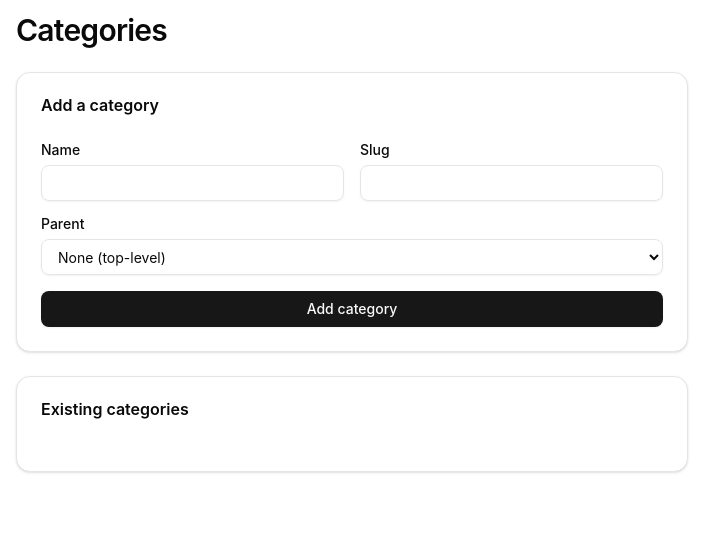
Test: AdminCategoriesPage › creates a new category
Expected: the text "Add a category" is shown, [41,95,159,115]
Type "Gadgets" into the field labelled "Name". click: x=192, y=183
box: [41,165,344,201]
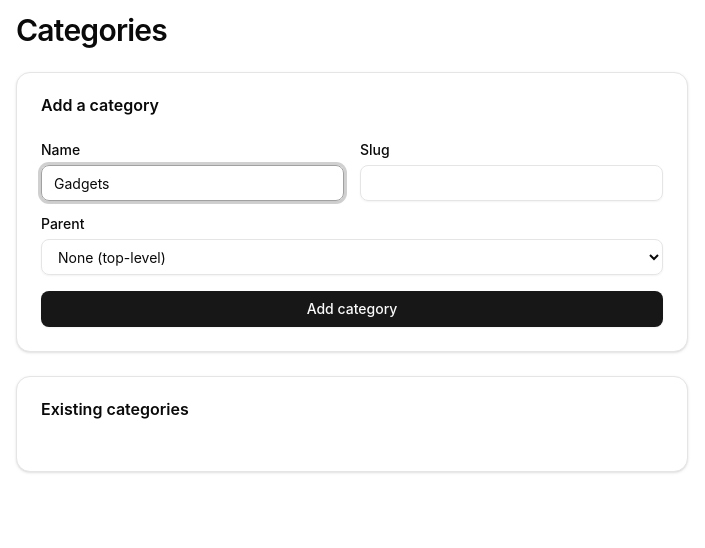
Type "gadgets" into the field labelled "Slug". click: x=512, y=183
box: [360,165,663,201]
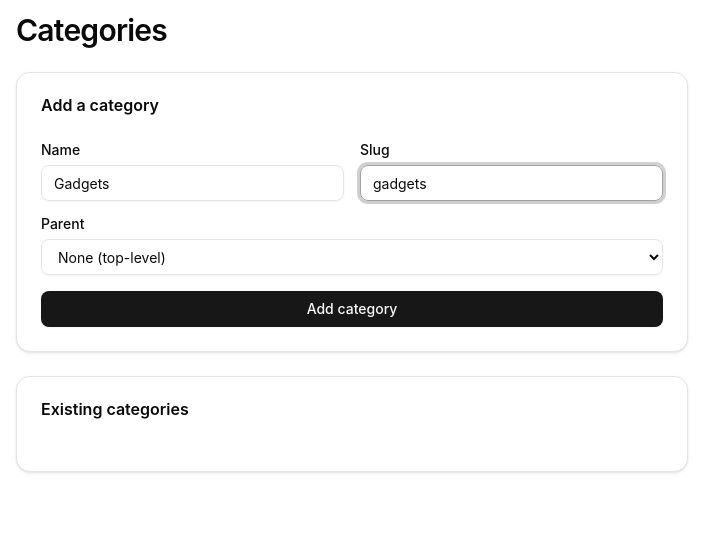
Click the button "Add category". click: x=352, y=309
box: [41,291,663,327]
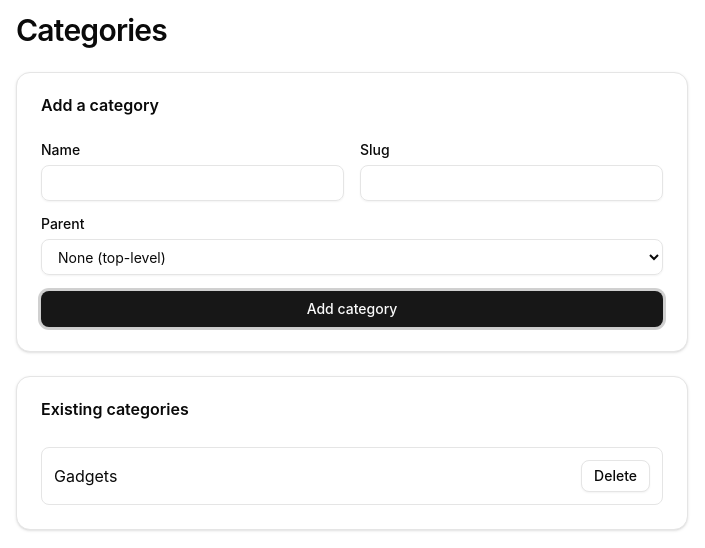
Expected: the button "Delete" is shown, [581,460,650,492]
